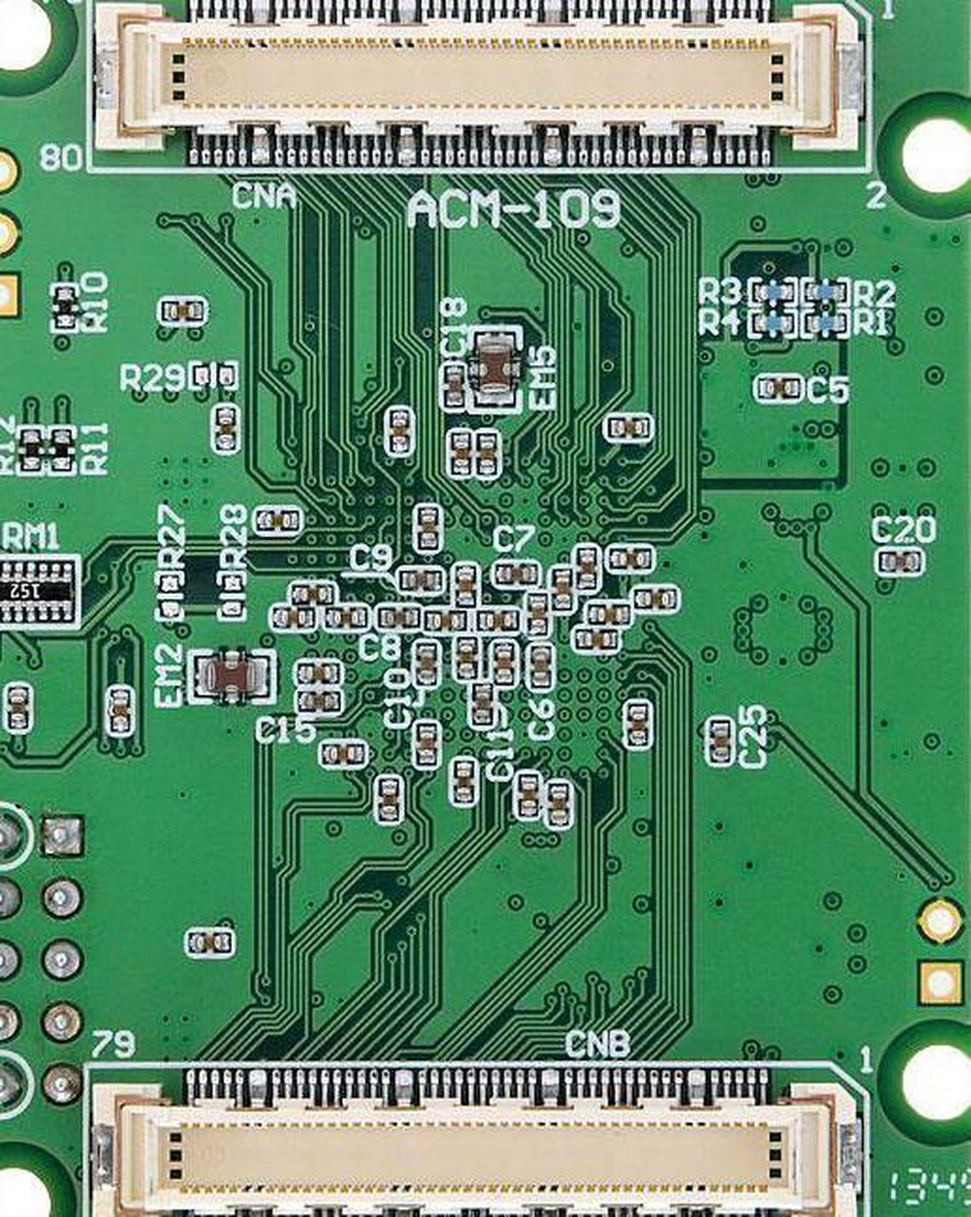Capacitor: (438, 362, 469, 409), (373, 771, 401, 821), (158, 294, 207, 322), (602, 411, 651, 439), (384, 407, 412, 456), (450, 757, 478, 806), (318, 738, 365, 767), (629, 582, 677, 610), (374, 601, 422, 629), (412, 501, 438, 552), (267, 603, 318, 629), (871, 546, 920, 573), (572, 625, 621, 652), (105, 686, 132, 735), (395, 565, 442, 593), (450, 560, 478, 607), (186, 927, 233, 955), (549, 563, 574, 614), (572, 543, 598, 592), (491, 560, 540, 586), (412, 637, 438, 686), (472, 430, 499, 477), (491, 641, 516, 690), (753, 373, 800, 399), (469, 678, 495, 725), (544, 778, 570, 825), (608, 543, 651, 571), (423, 607, 469, 633), (529, 642, 555, 688), (585, 599, 630, 625), (623, 701, 649, 746), (412, 722, 438, 767), (211, 403, 235, 450), (254, 505, 301, 529), (288, 580, 337, 603), (295, 688, 341, 712), (294, 659, 341, 682), (454, 637, 478, 682), (706, 716, 730, 761), (324, 603, 365, 629), (527, 590, 549, 637), (514, 769, 536, 816), (474, 607, 517, 631), (6, 684, 28, 729), (448, 430, 469, 477)
Connector: (88, 0, 873, 168), (85, 1061, 868, 1215), (0, 791, 88, 1128), (907, 876, 969, 1019), (0, 134, 30, 330)
Resistor: (0, 550, 79, 627), (49, 286, 79, 332), (747, 307, 800, 333), (749, 277, 800, 303), (800, 309, 851, 335), (802, 277, 851, 303), (17, 424, 41, 475), (51, 426, 73, 471)
